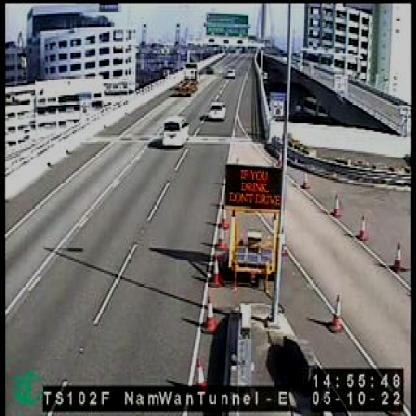Car: (161, 115, 186, 146), (207, 100, 225, 118), (226, 69, 234, 78)
Truck: (173, 61, 195, 94)
